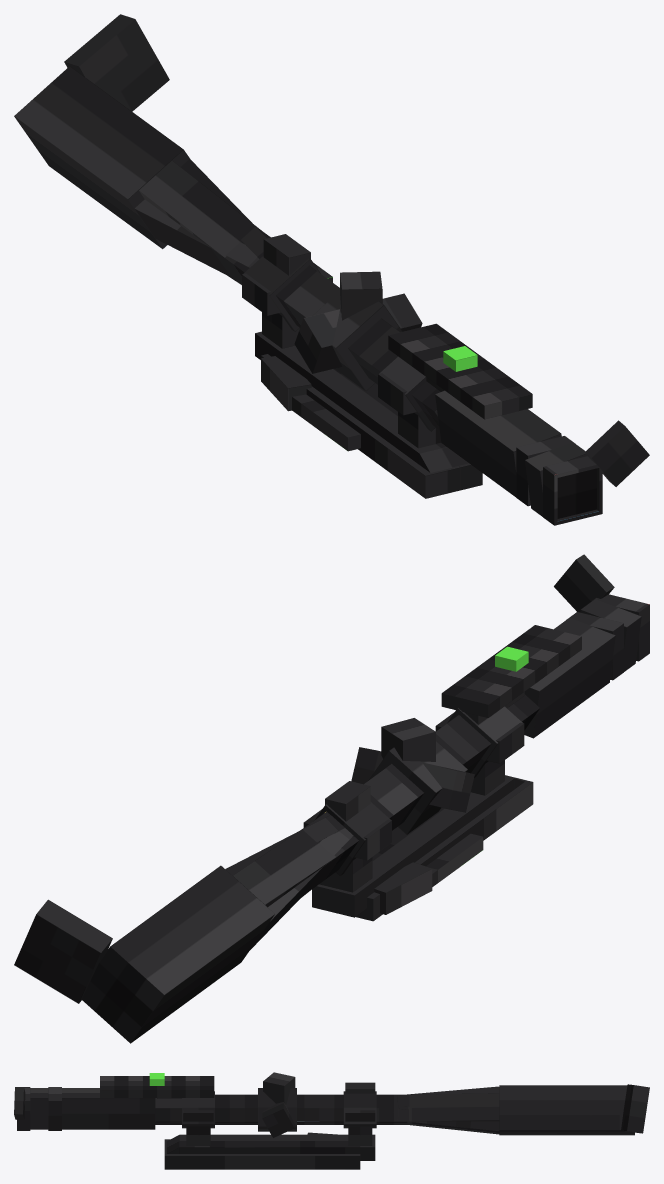
File: eagle scope.obj
3 views of the same model, one above another, from view 1: azimuth 30°, elevation 25°; view 2: azimuth 150°, elevation 25°; view 3: azimuth 270°, elevation 25° (orthographic). The views are drawn at different scales.
Visible parts, largest first — view 1: bone4_7; view 2: bone4_7; view 3: bone4_7, _cb_scope_1.
Boxes of the visible parts, <box> form: bone4_7: <box>14,14,649,525</box>; bone4_7: <box>14,554,649,1043</box>; bone4_7: <box>14,1072,649,1169</box>; _cb_scope_1: <box>149,1073,164,1085</box>.
Bounding box in the file's own units: 0.442 × 0.4556 × 2.64.
